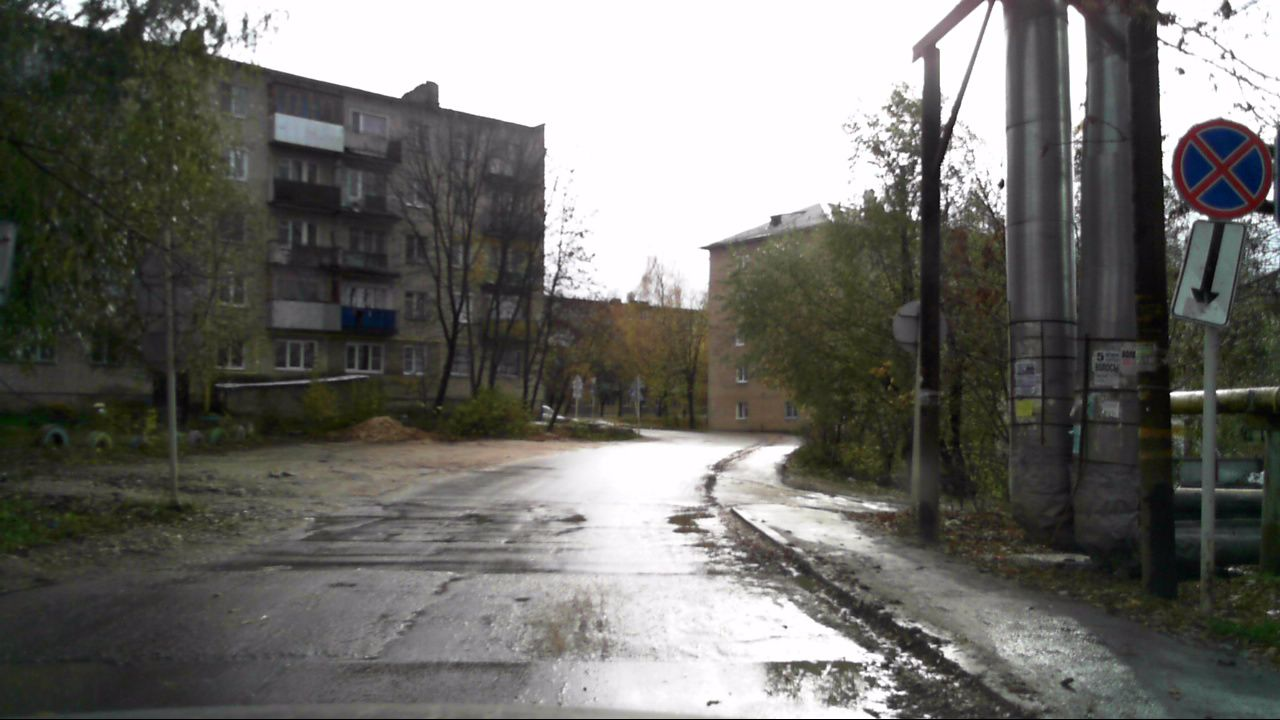No Parking: (1171, 120, 1271, 220)
